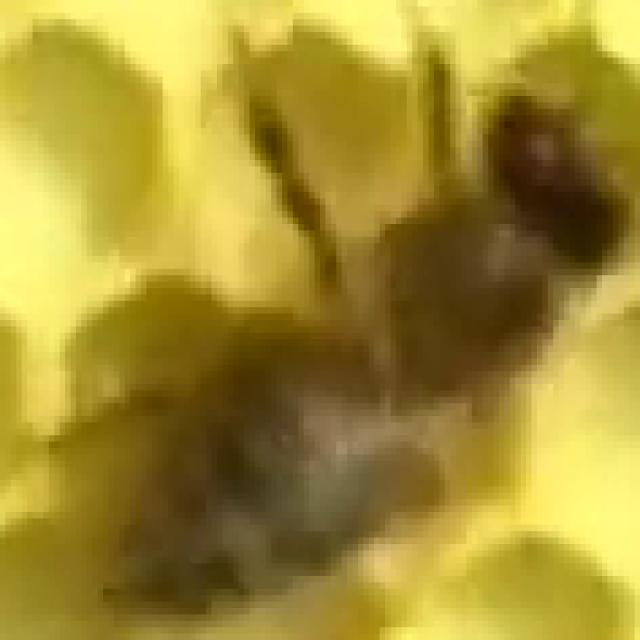honeybee: (110, 109, 600, 591)
